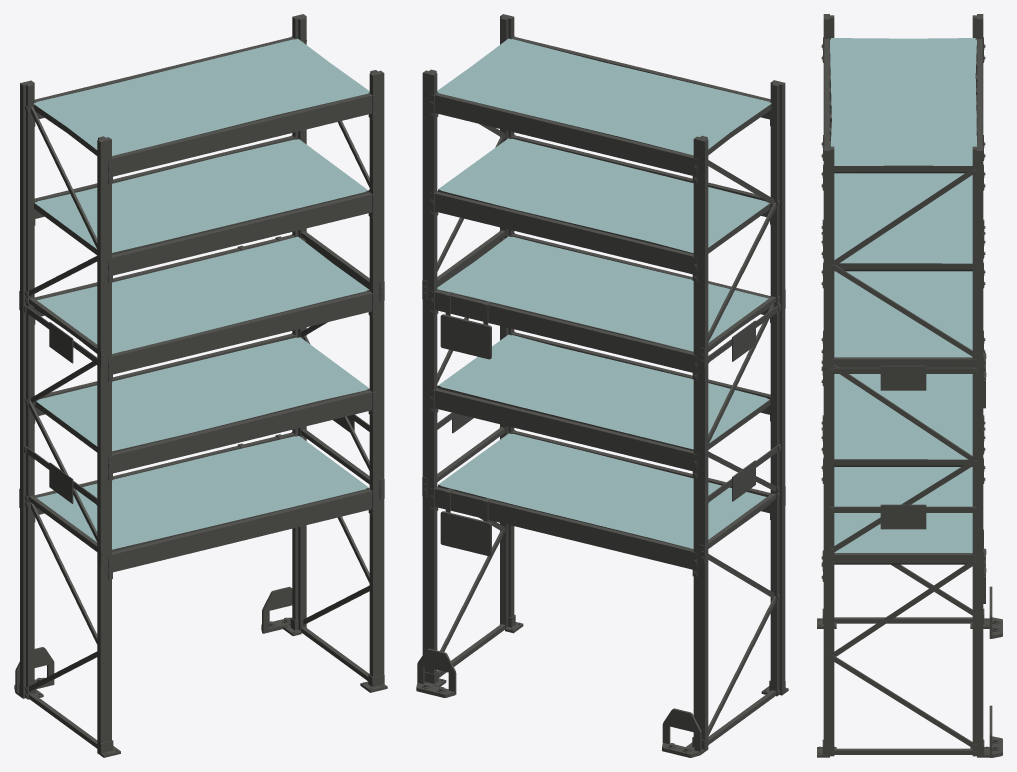
File: raf.fbx
3 renders of one model, left to right at view 1: azimuth 30°, elevation 25°; view 2: azimuth 150°, elevation 25°; view 3: azimuth 270°, elevation 25°, orthographic.
Parts seen in each view (by area): view 1: polySurface227; view 2: polySurface227; view 3: polySurface227.
Boxes of the visible parts, x1=… form: polySurface227: x1=14, y1=14, x2=387, y2=757; polySurface227: x1=416, y1=14, x2=788, y2=757; polySurface227: x1=817, y1=14, x2=1002, y2=757.
Size of the model in its own units: 301 by 620 by 172.
